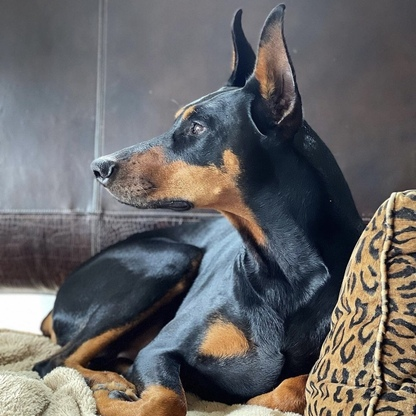doberman: (36, 6, 373, 412)
